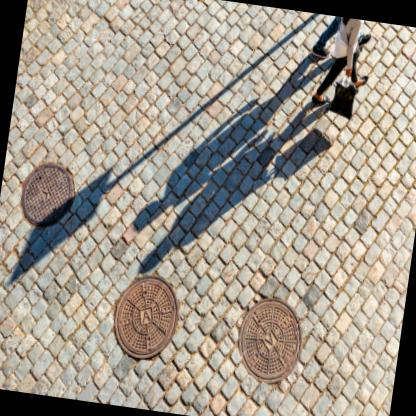manholes: (226, 279, 333, 403), (93, 254, 198, 372), (8, 144, 91, 237)
